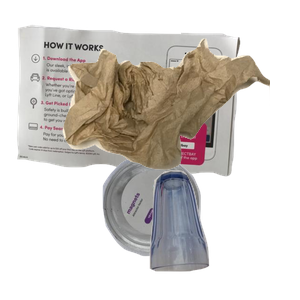glass: (147, 168, 300, 300)
paper: (14, 22, 247, 191)
plastic: (100, 152, 293, 300)
trash: (60, 36, 300, 198)
